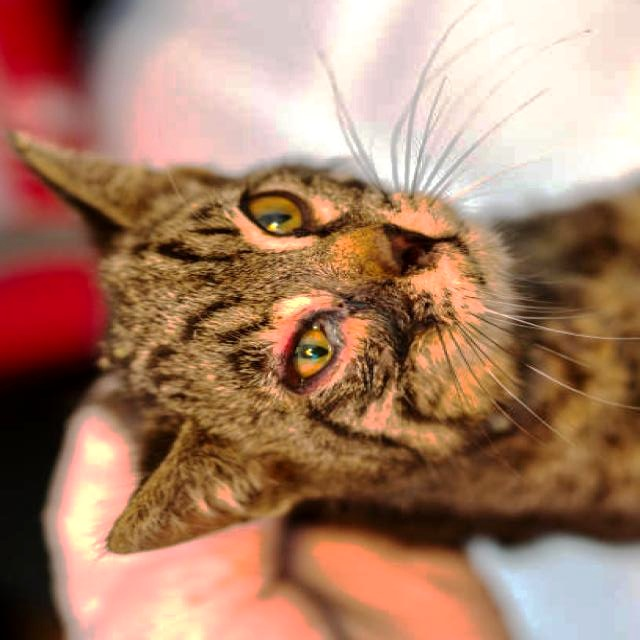eye_infection: (272, 307, 350, 397)
